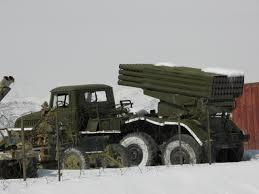MIL_SAM_TEL: (22, 63, 252, 167)
